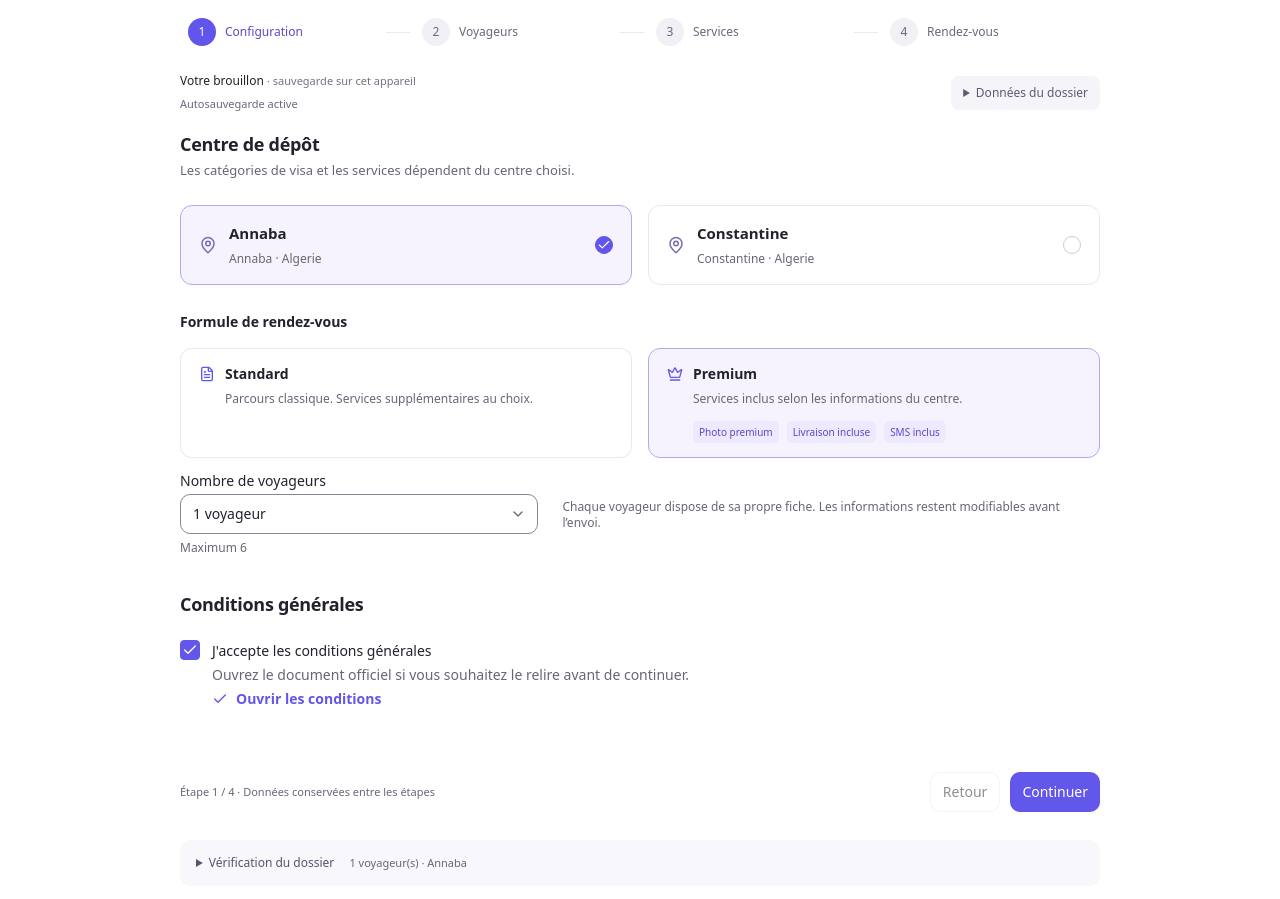
BookingShell flow › moves from setup to travellers when the setup step is valid
Click the button "Continuer" at (1055, 792), box [1010, 772, 1100, 812]
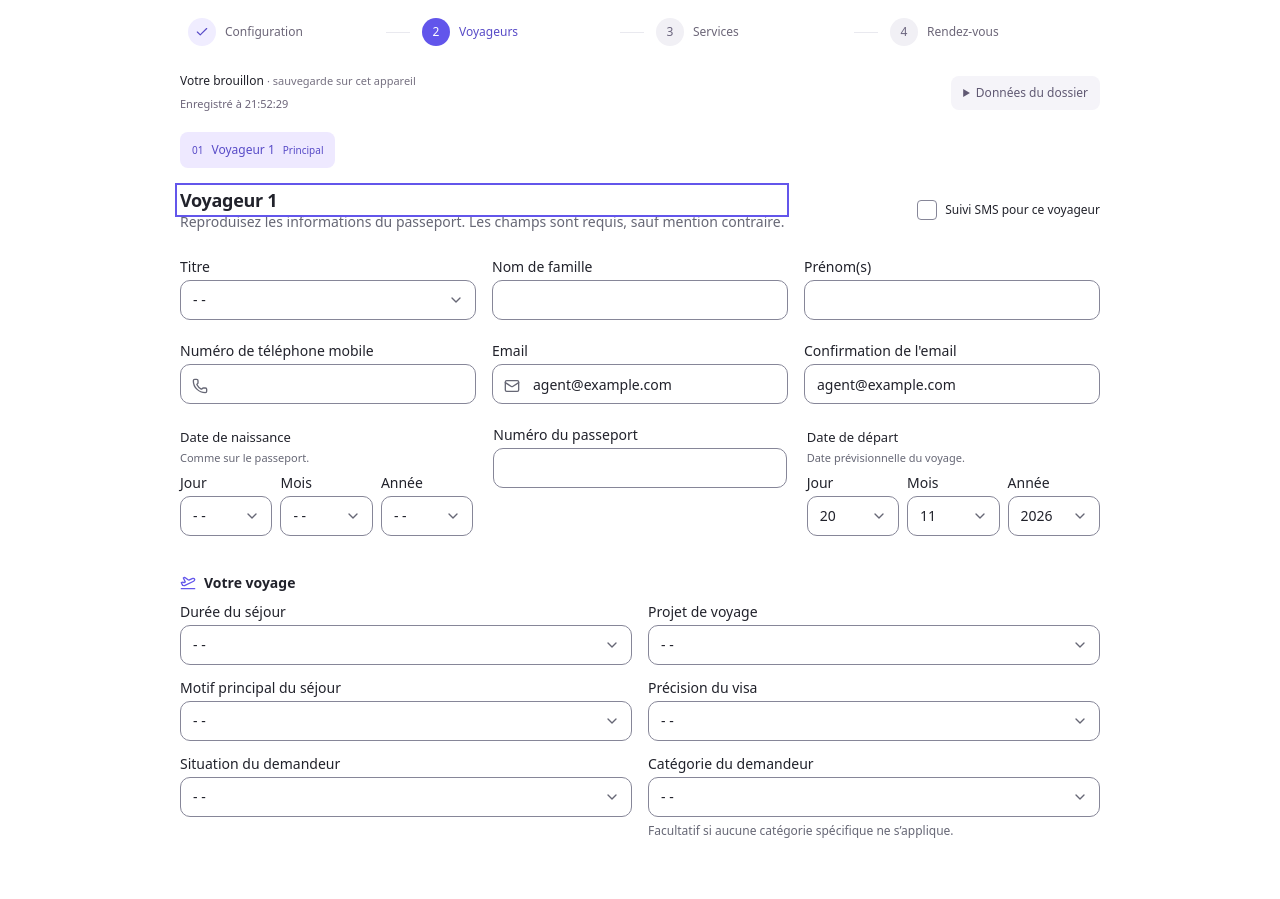
Expected: the heading "Voyageur 1" is shown, [180, 188, 277, 212]
